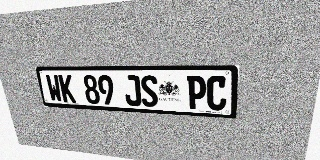8: (82, 75, 101, 104)
9: (97, 75, 115, 105)
C: (206, 76, 228, 111)
J: (123, 75, 142, 106)
K: (58, 75, 76, 103)
P: (187, 76, 206, 110)
S: (140, 75, 159, 107)
W: (45, 75, 63, 102)
